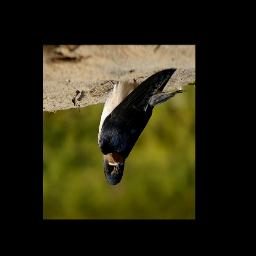Swallow: (97, 69, 186, 186)
